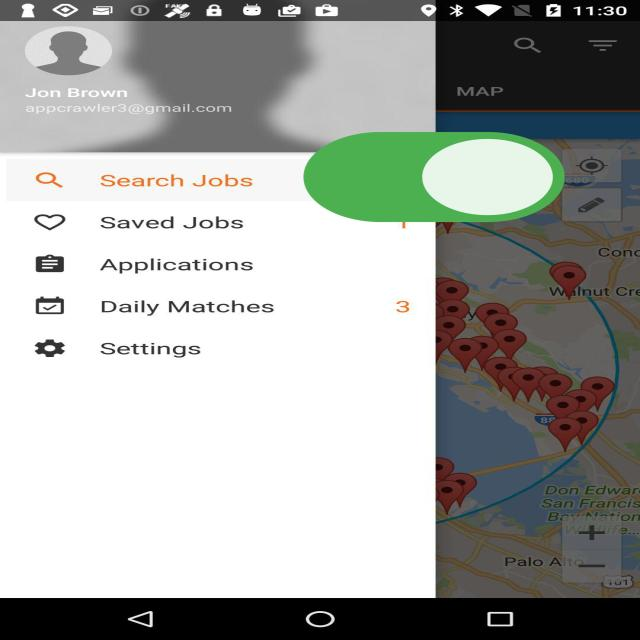social proof: (292, 97, 576, 264)
